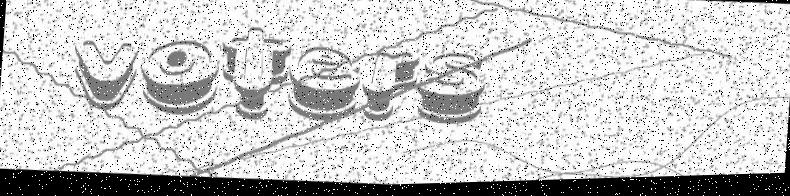e: (286, 43, 367, 129)
o: (138, 38, 220, 120)
r: (359, 47, 422, 130)
s: (417, 50, 490, 137)
t: (218, 22, 295, 132)
v: (64, 36, 141, 116)
